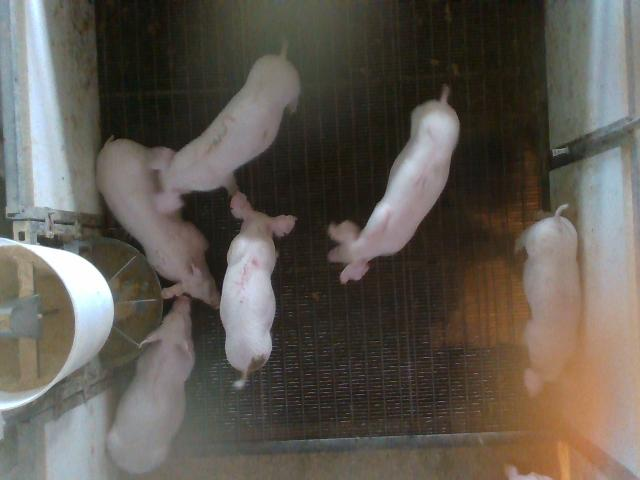pig-3: (151, 49, 300, 212)
pig-5: (220, 191, 296, 388)
